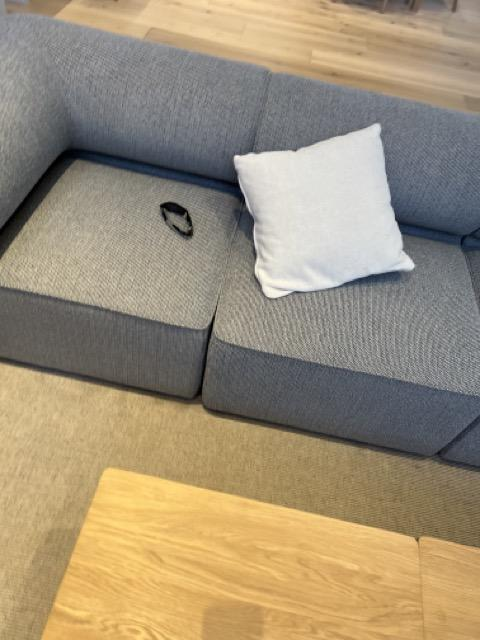Sunglasses: (158, 200, 195, 240)
